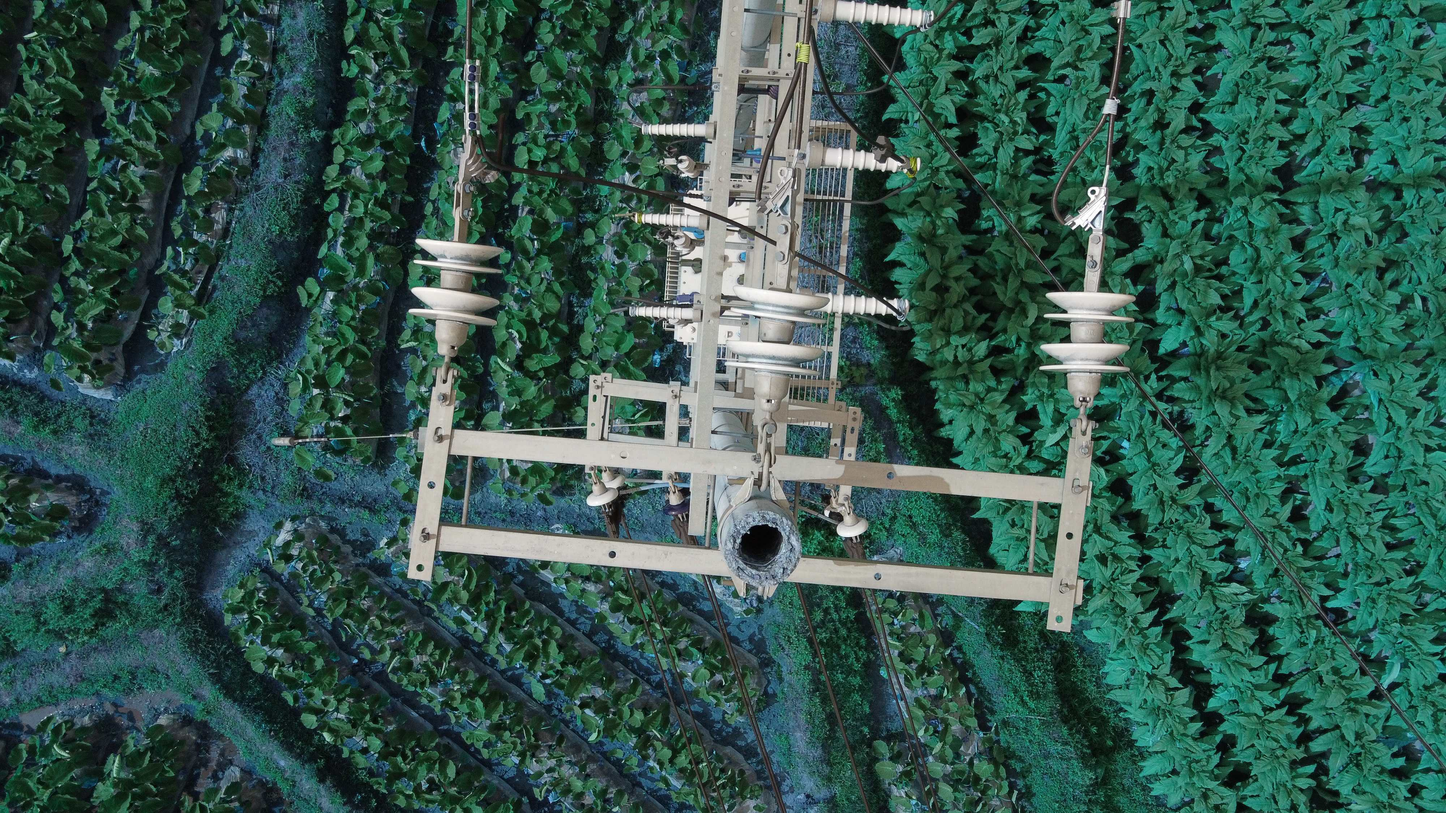severe_soiling_no_discharge_whole: (719, 279, 837, 412), (403, 232, 508, 356)
